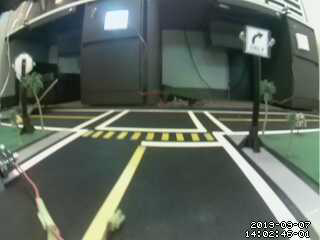Right_only_sign: (238, 22, 271, 57)
